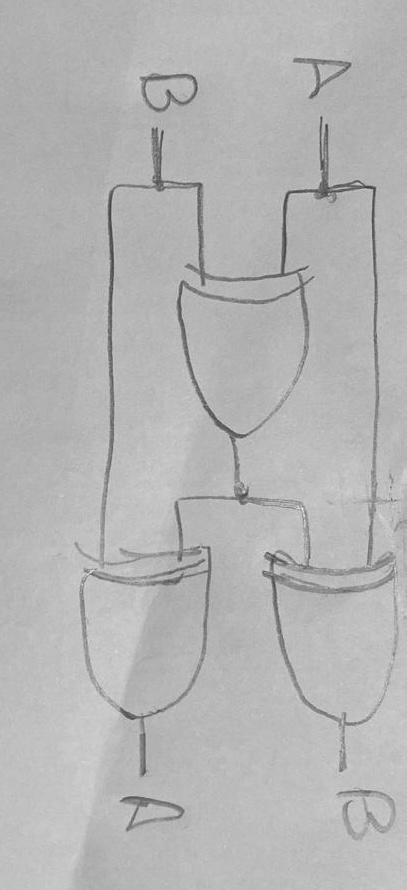XOR: (52, 532, 220, 737), (168, 245, 332, 446), (253, 538, 407, 737)
